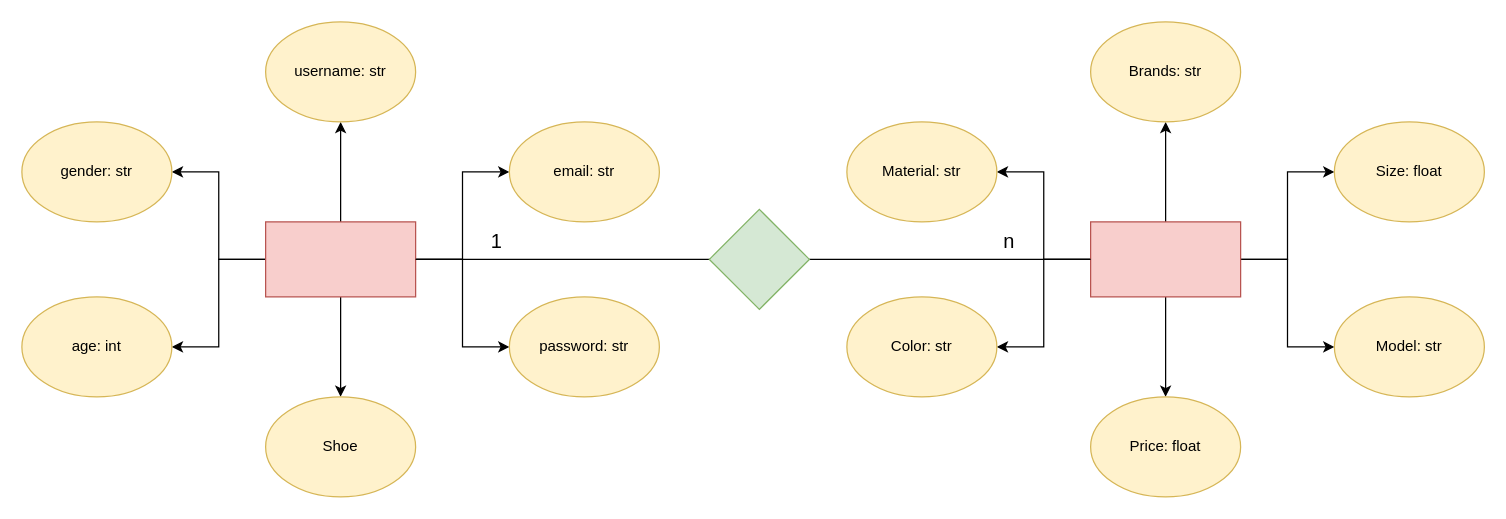
This 1506x519 diagram has some shape labels left out. The shapes that lost their labels are listed below. From the top down, each one's box as (x1, y1, x2, y2) in pixels, then its label:
(264, 221, 416, 297): User
(708, 208, 809, 309): has
(1089, 221, 1241, 297): Shoes
